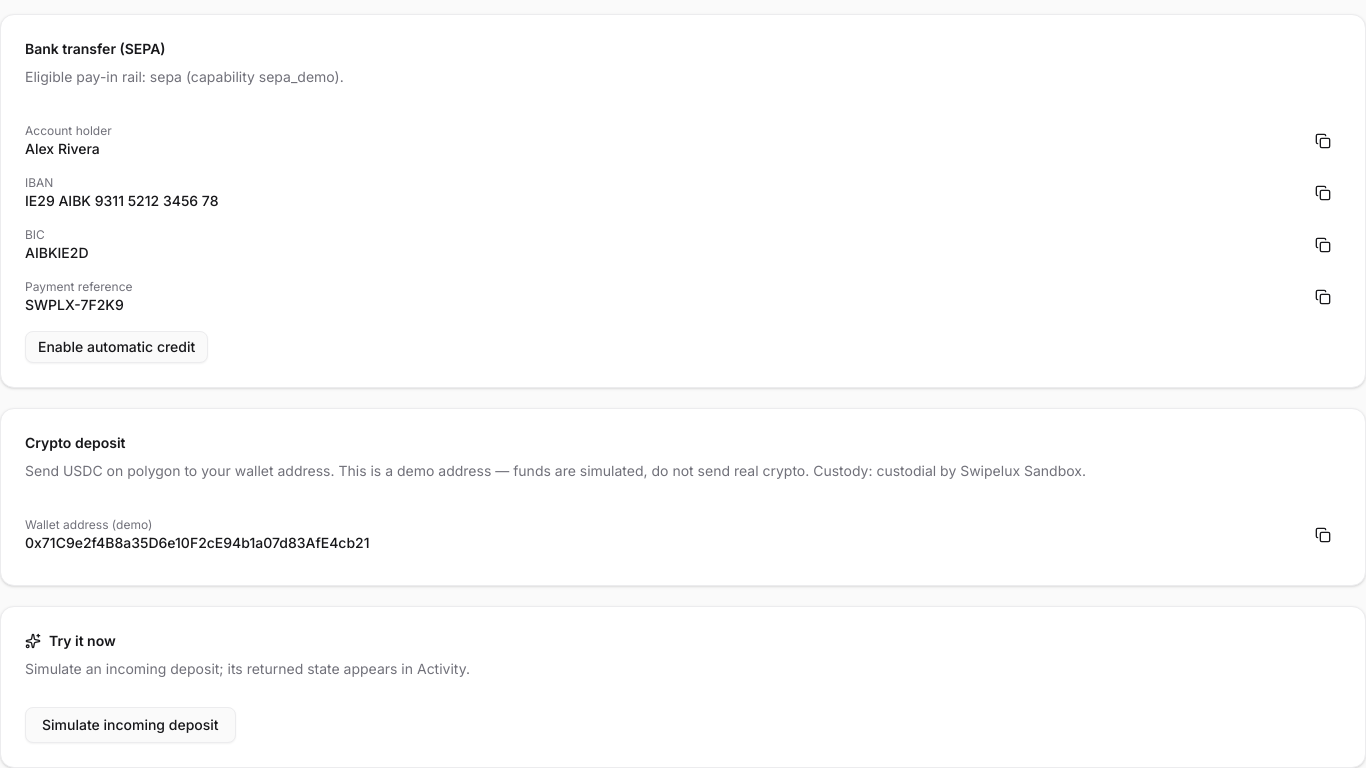
Test case: AddMoney › simulated deposit adds a transfer
(page scrolled)
Step 1. Click the button "Simulate incoming deposit" → (130, 725), box [25,707,236,743]
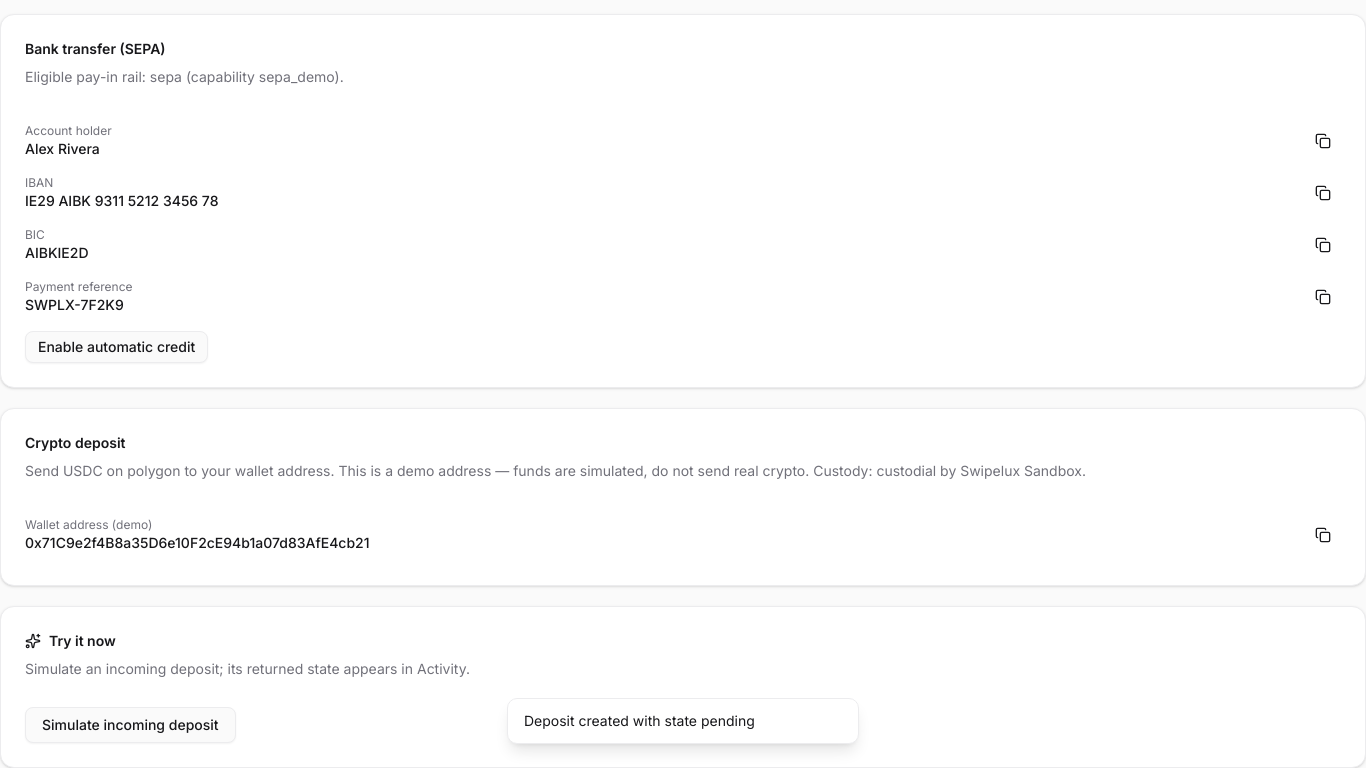
Check: the text "Deposit created with state pending" is shown, box [507,698,859,744]
